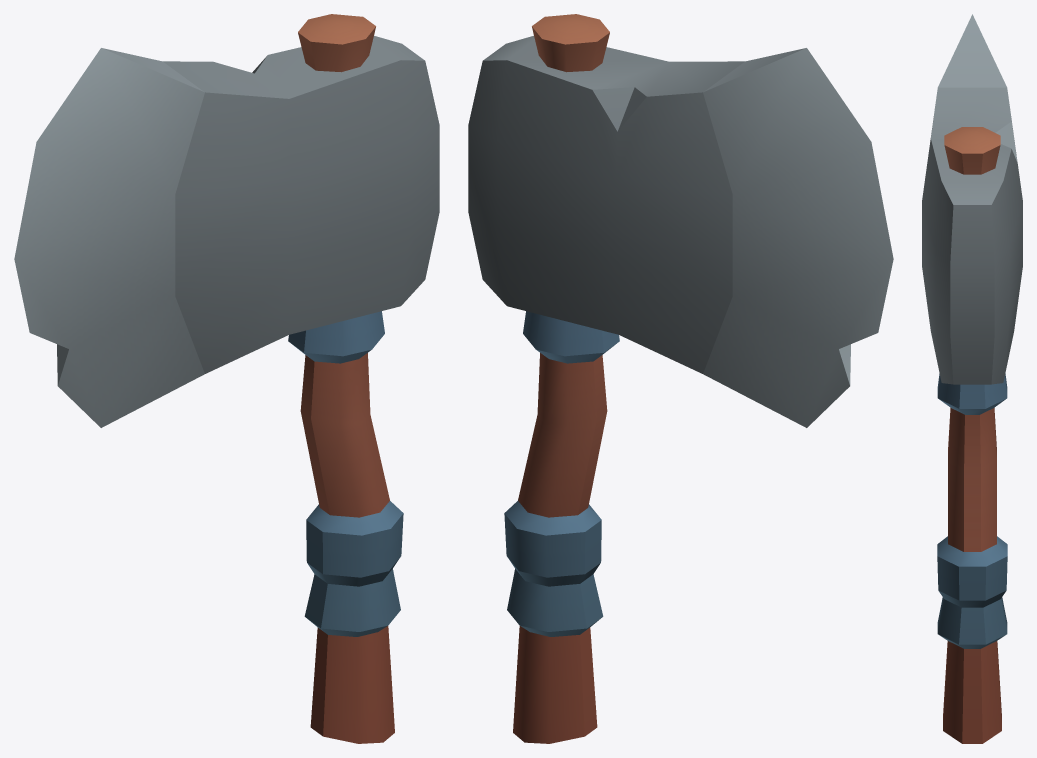
The model's file is axe.glb.
3 views of the same model, side by side, from view 1: azimuth 30°, elevation 25°; view 2: azimuth 150°, elevation 25°; view 3: azimuth 270°, elevation 25° (orthographic). The views are drawn at different scales.
Visible parts, largest first — view 1: 1H_Axe; view 2: 1H_Axe; view 3: 1H_Axe.
Part boxes in pixels (<box>): 1H_Axe: <box>14,14,439,743</box>; 1H_Axe: <box>468,14,893,743</box>; 1H_Axe: <box>922,14,1022,743</box>.
Size of the model in its own units: 0.7143 by 1.24 by 0.185.
Materials: 1 (1 with a texture image).
